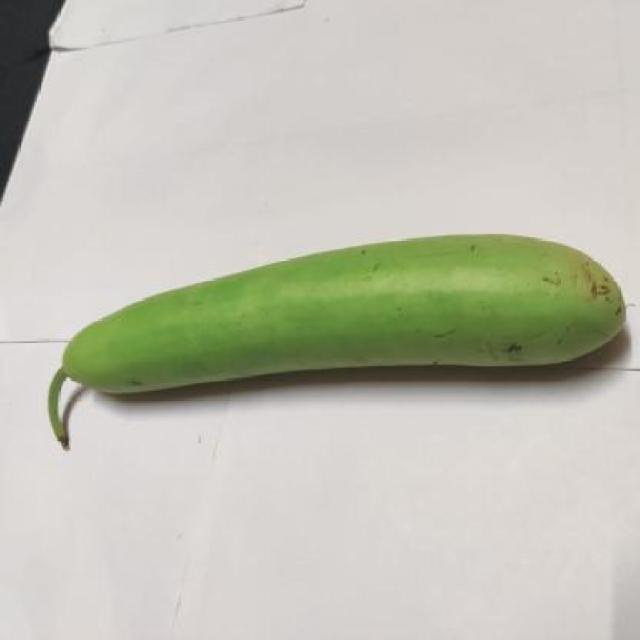Calabash: (49, 231, 634, 432)
